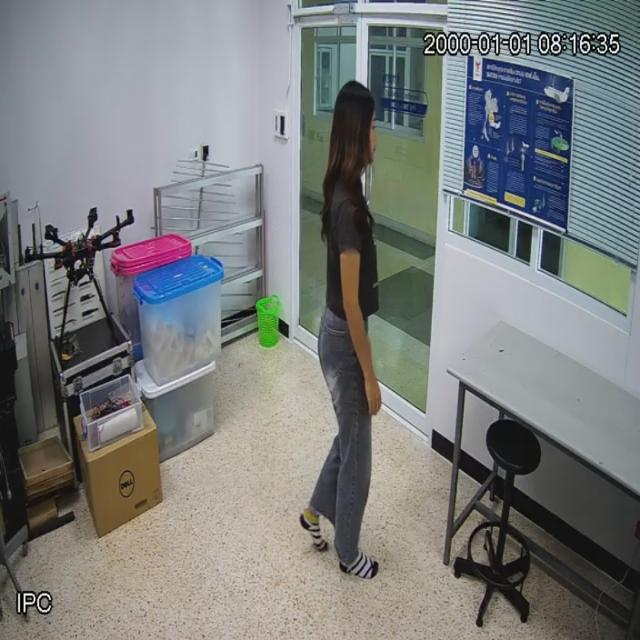normal: (306, 80, 383, 574)
